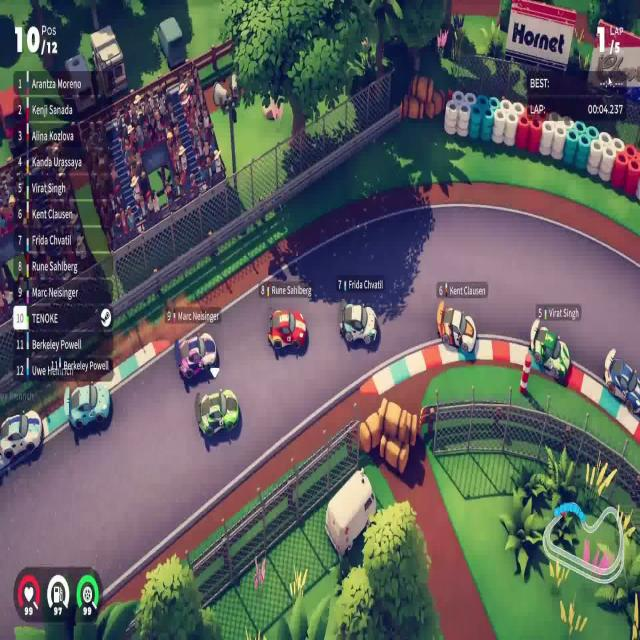car: (1, 408, 44, 471), (530, 321, 570, 385), (65, 381, 111, 433), (195, 387, 240, 438), (175, 331, 220, 382), (436, 300, 477, 354), (266, 308, 308, 355), (338, 300, 378, 347)
